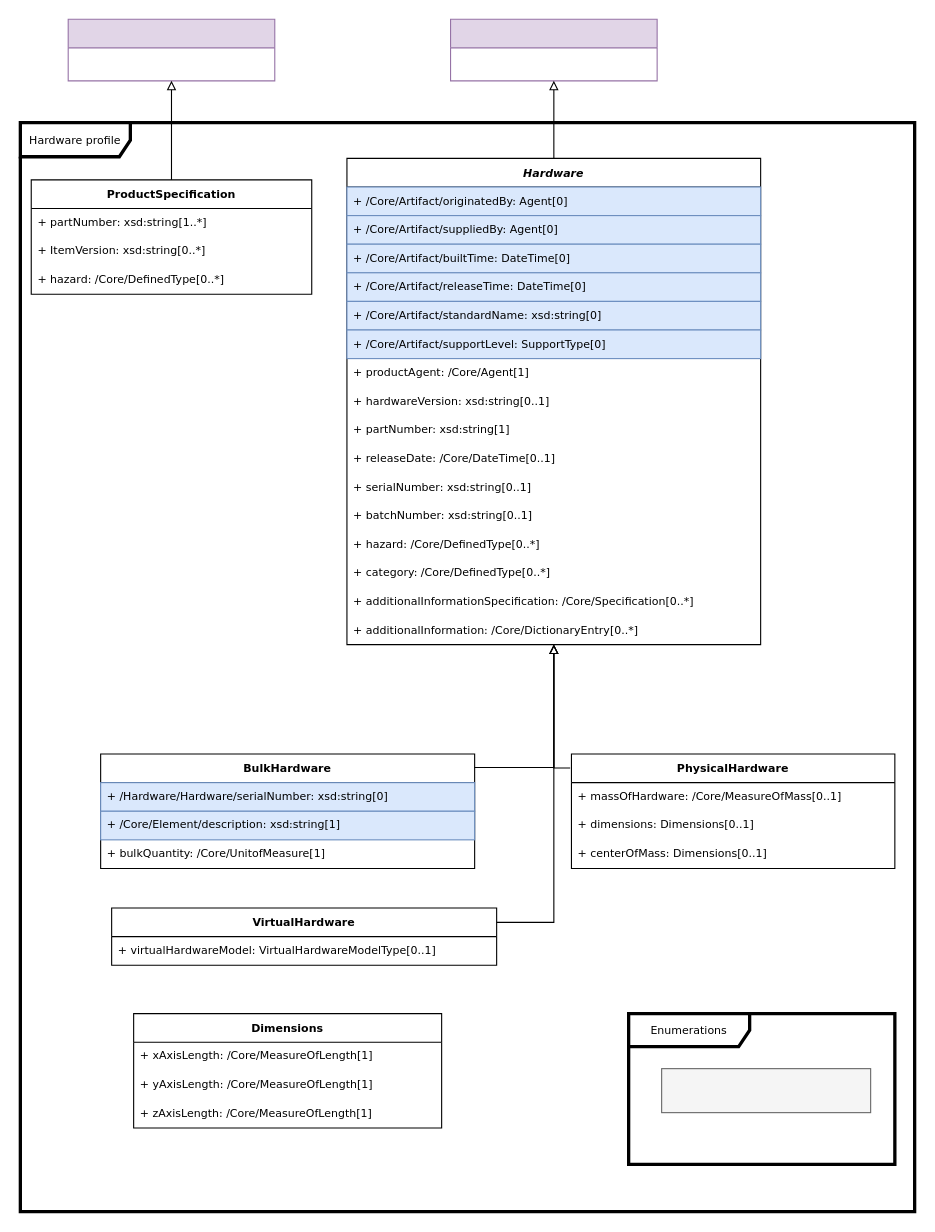
Image size: 935x1232. Some labels were removed from this diagram. The shapes that lost their labels are listed below. From the top down, each one's centre as x and y in pixels, then its label:
the point at 171,49: /Core/Specification
the point at 553,49: /Core/Artifact
the point at 766,1090: VirtualHardwareModelType
